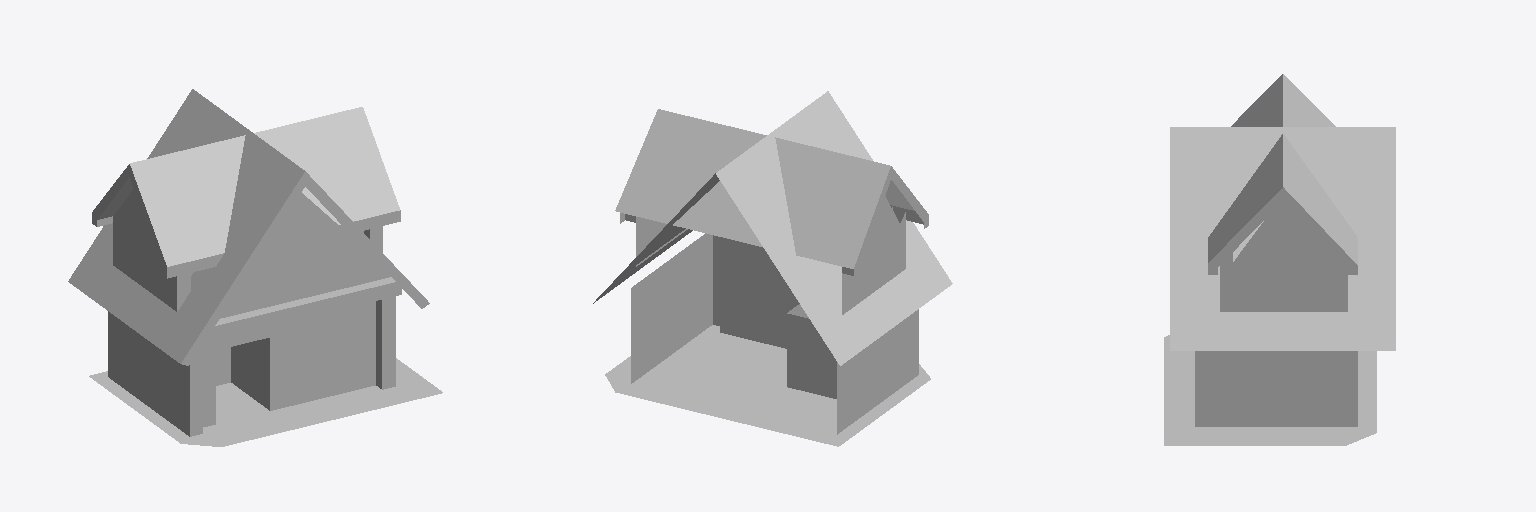
Rendered from Pallet Town House.obj.
3 views of the same model, side by side, from view 1: azimuth 30°, elevation 25°; view 2: azimuth 150°, elevation 25°; view 3: azimuth 270°, elevation 25° (orthographic).
Parts seen in each view (by area): view 1: polygon2, polygon1, polygon0; view 2: polygon2, polygon1; view 3: polygon2, polygon1.
Part boxes in pixels (bbox=[...]): polygon2: bbox=[68, 89, 429, 436]; polygon1: bbox=[89, 358, 442, 446]; polygon0: bbox=[244, 235, 354, 372]; polygon2: bbox=[593, 91, 952, 434]; polygon1: bbox=[605, 325, 930, 446]; polygon2: bbox=[1170, 74, 1395, 426]; polygon1: bbox=[1164, 335, 1376, 445].
Size of the model in its own units: 96 by 89.02 by 74.